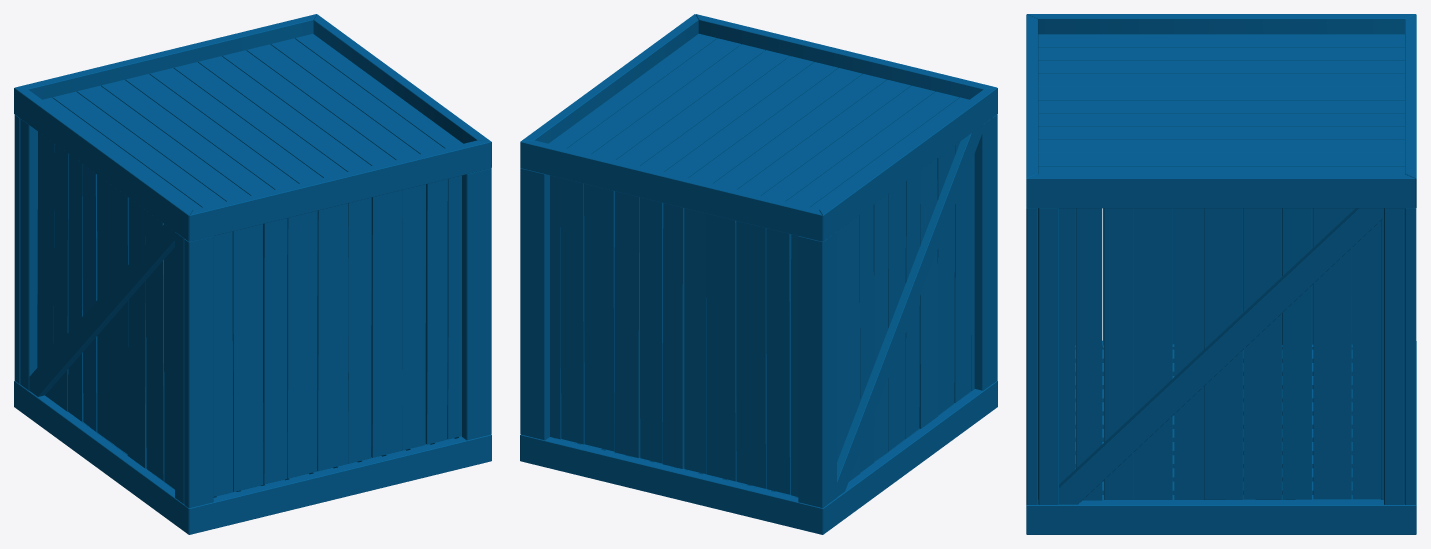
3 renders of one model, left to right at view 1: azimuth 30°, elevation 25°; view 2: azimuth 150°, elevation 25°; view 3: azimuth 270°, elevation 25°, orthographic. The views are drawn at different scales.
Visible parts, largest first — view 1: Obj3d66-495307-42-903, Obj3d66-495307-29-245, Obj3d66-495307-41-516, Obj3d66-495307-38-362, Obj3d66-495307-32-625, Obj3d66-495307-40-357, Obj3d66-495307-39-599, Obj3d66-495307-33-307, Obj3d66-495307-34-870, Obj3d66-495307-35-677; view 2: Obj3d66-495307-36-340, Obj3d66-495307-29-245, Obj3d66-495307-41-516, Obj3d66-495307-38-362, Obj3d66-495307-32-625, Obj3d66-495307-37-918, Obj3d66-495307-34-870, Obj3d66-495307-39-599, Obj3d66-495307-33-307, Obj3d66-495307-35-677; view 3: Obj3d66-495307-31-687, Obj3d66-495307-29-245, Obj3d66-495307-38-362, Obj3d66-495307-35-677, Obj3d66-495307-33-307, Obj3d66-495307-34-870, Obj3d66-495307-39-599, Obj3d66-495307-32-625, Obj3d66-495307-30-303, Obj3d66-495307-41-516.
Boxes of the visible parts, x1,y1,x2,y2 form: Obj3d66-495307-42-903: (213, 175, 461, 496); Obj3d66-495307-29-245: (42, 34, 462, 209); Obj3d66-495307-41-516: (37, 131, 174, 489); Obj3d66-495307-38-362: (14, 114, 491, 507); Obj3d66-495307-32-625: (15, 14, 491, 241); Obj3d66-495307-40-357: (189, 435, 491, 534); Obj3d66-495307-39-599: (14, 88, 192, 241); Obj3d66-495307-33-307: (14, 381, 491, 534); Obj3d66-495307-34-870: (29, 224, 174, 396); Obj3d66-495307-35-677: (313, 14, 491, 167); Obj3d66-495307-36-340: (550, 175, 798, 496); Obj3d66-495307-29-245: (549, 33, 969, 209); Obj3d66-495307-41-516: (837, 141, 974, 481); Obj3d66-495307-38-362: (520, 114, 997, 507); Obj3d66-495307-32-625: (520, 14, 996, 241); Obj3d66-495307-37-918: (520, 434, 822, 534); Obj3d66-495307-34-870: (837, 125, 982, 496); Obj3d66-495307-39-599: (819, 88, 997, 241); Obj3d66-495307-33-307: (520, 381, 997, 534); Obj3d66-495307-35-677: (520, 14, 698, 143); Obj3d66-495307-31-687: (1038, 208, 1383, 500); Obj3d66-495307-29-245: (1038, 34, 1404, 173); Obj3d66-495307-38-362: (1026, 208, 1416, 504); Obj3d66-495307-35-677: (1026, 174, 1415, 208); Obj3d66-495307-33-307: (1026, 340, 1416, 534); Obj3d66-495307-34-870: (1059, 208, 1383, 504); Obj3d66-495307-39-599: (1027, 14, 1415, 34); Obj3d66-495307-32-625: (1026, 14, 1416, 207); Obj3d66-495307-30-303: (1038, 345, 1383, 500); Obj3d66-495307-41-516: (1075, 208, 1352, 347).
Bounding box in the file's own units: 33.45 × 33.7 × 33.44.
